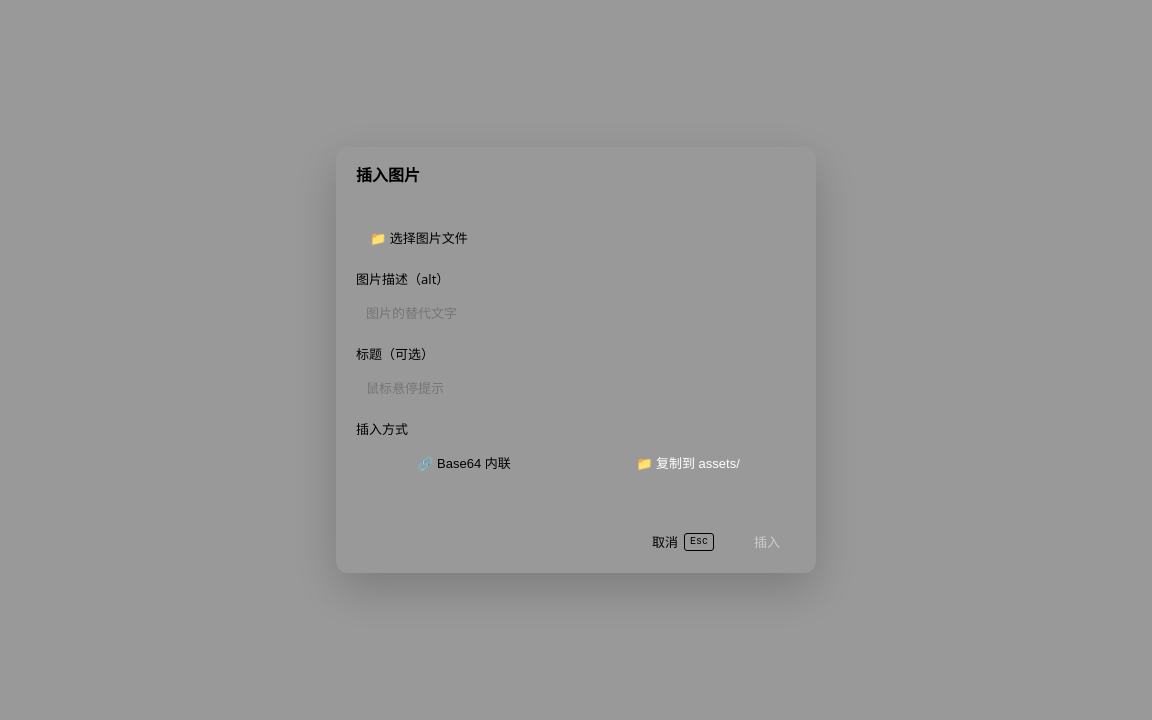
Test: <ImageInsertDialog /> › 不支持的格式显示错误
What coordinates should you click on to do the following:
click the button "📁 选择图片文件"
I would click on:
 (419, 238)
Its box is x1=356 y1=220 x2=482 y2=255.
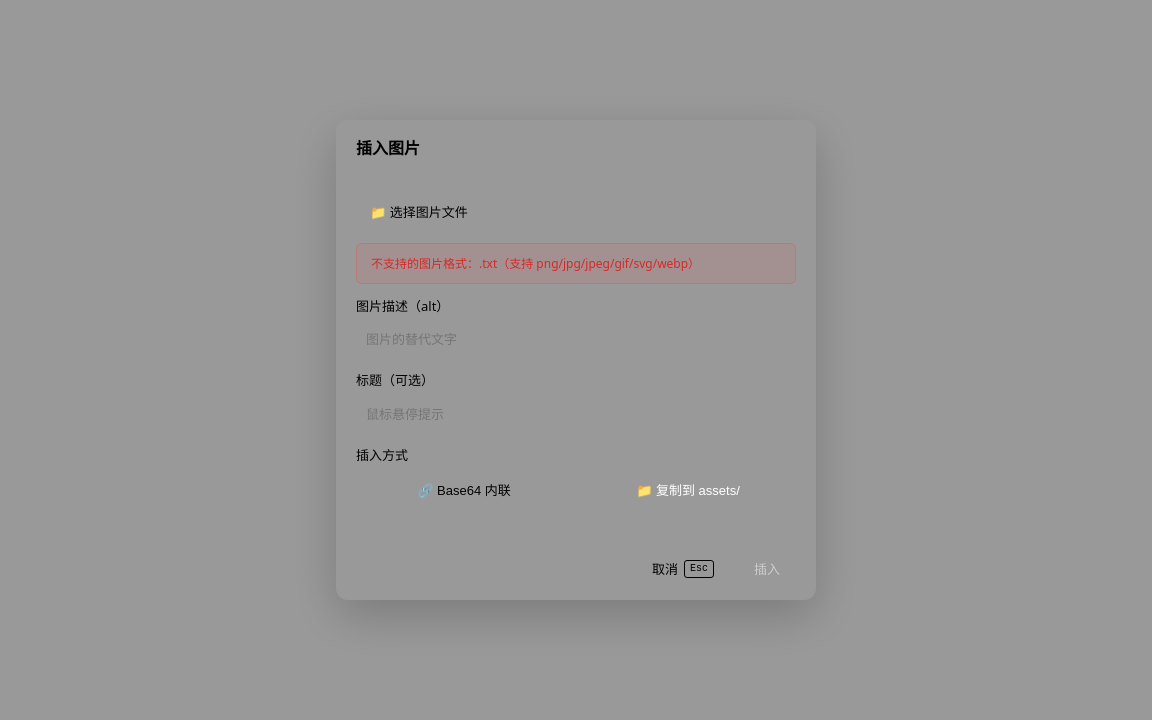
Expected: the text "不支持的图片格式：.txt（支持 png/jpg/jpeg/gif/svg/webp）" is shown, x1=356 y1=242 x2=796 y2=284
